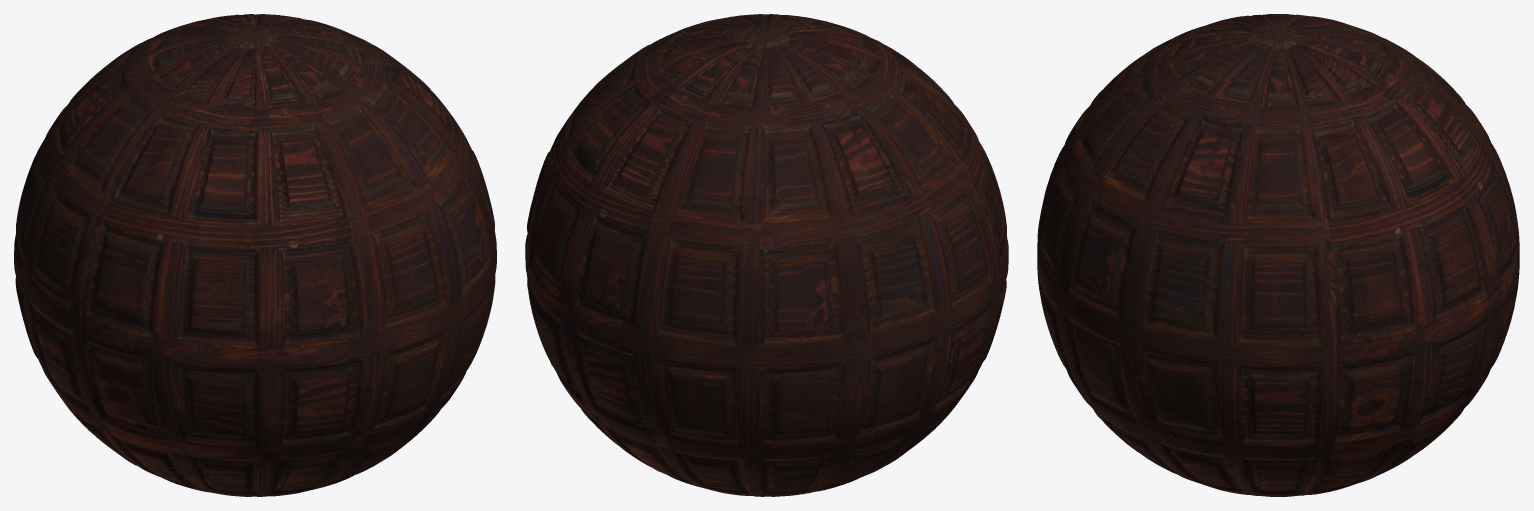
File: dark_paneled_wood_2k.gltf
3 views of the same model, side by side, from view 1: azimuth 30°, elevation 25°; view 2: azimuth 150°, elevation 25°; view 3: azimuth 270°, elevation 25° (orthographic).
Parts seen in each view (by area): view 1: sphere_gltf; view 2: sphere_gltf; view 3: sphere_gltf.
Boxes of the visible parts, <box> form: sphere_gltf: <box>14,14,496,496</box>; sphere_gltf: <box>525,14,1008,496</box>; sphere_gltf: <box>1037,14,1519,496</box>.
Size of the model in its own units: 1.39 by 1.39 by 1.39.
Materials: 1 (1 with a texture image).
